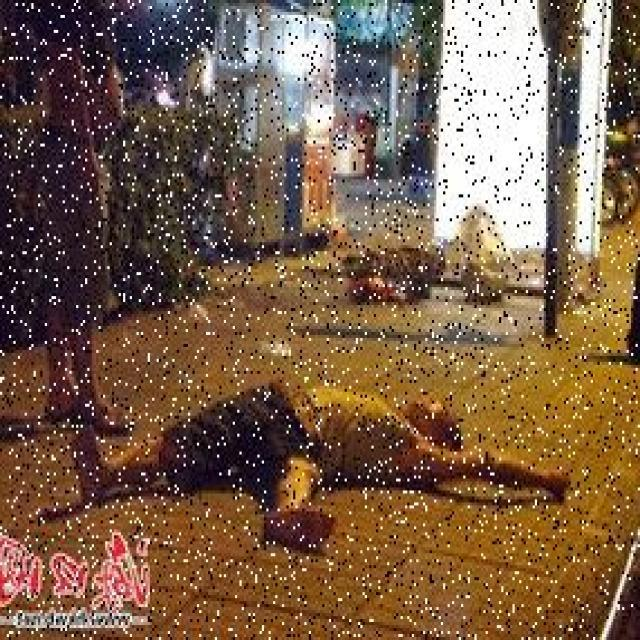fall: (76, 368, 532, 544)
